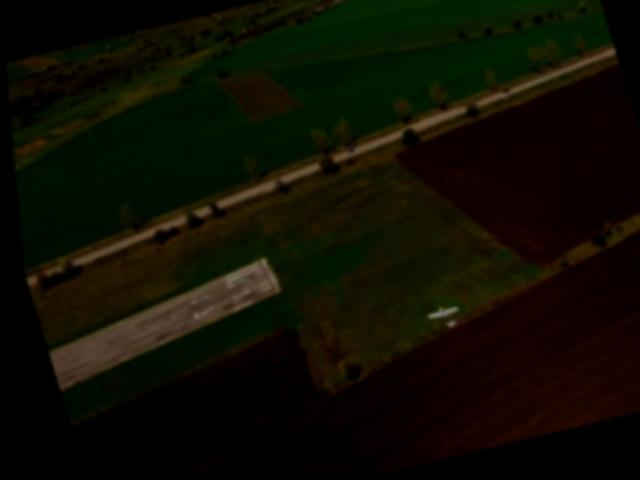uav: (414, 298, 463, 342)
